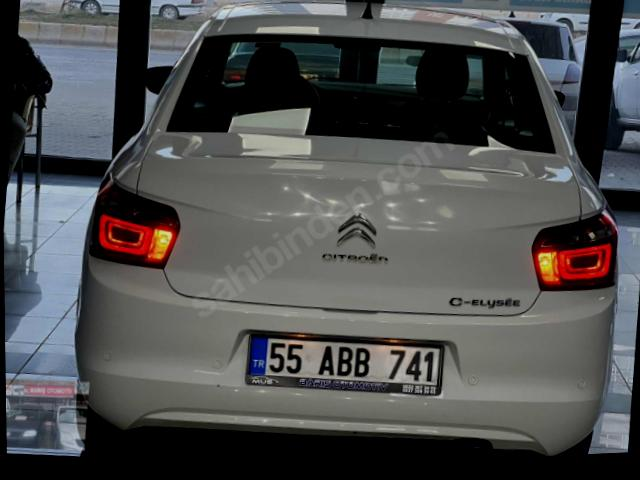plaka: (245, 334, 442, 395)
